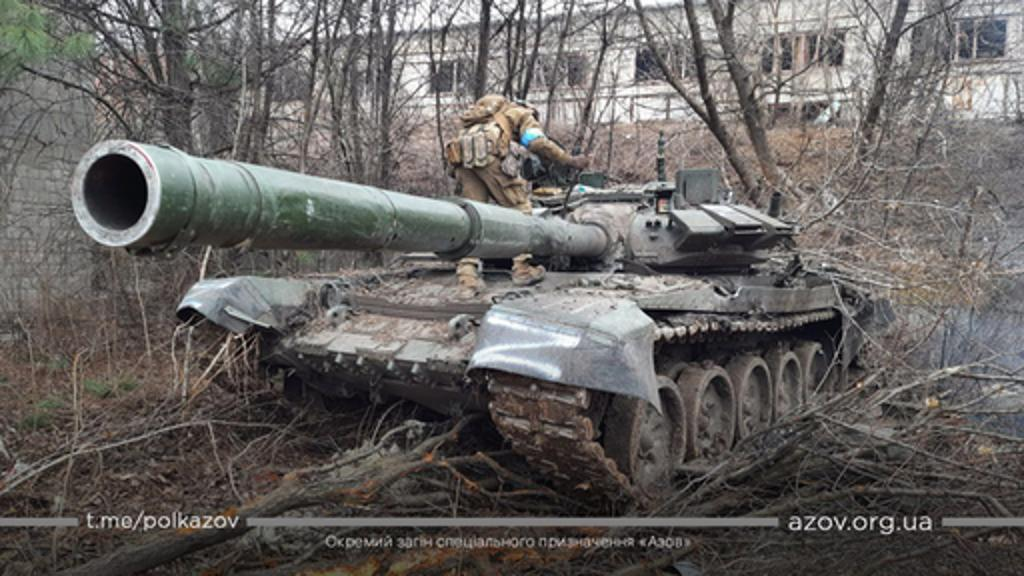TANK: (40, 100, 892, 514)
